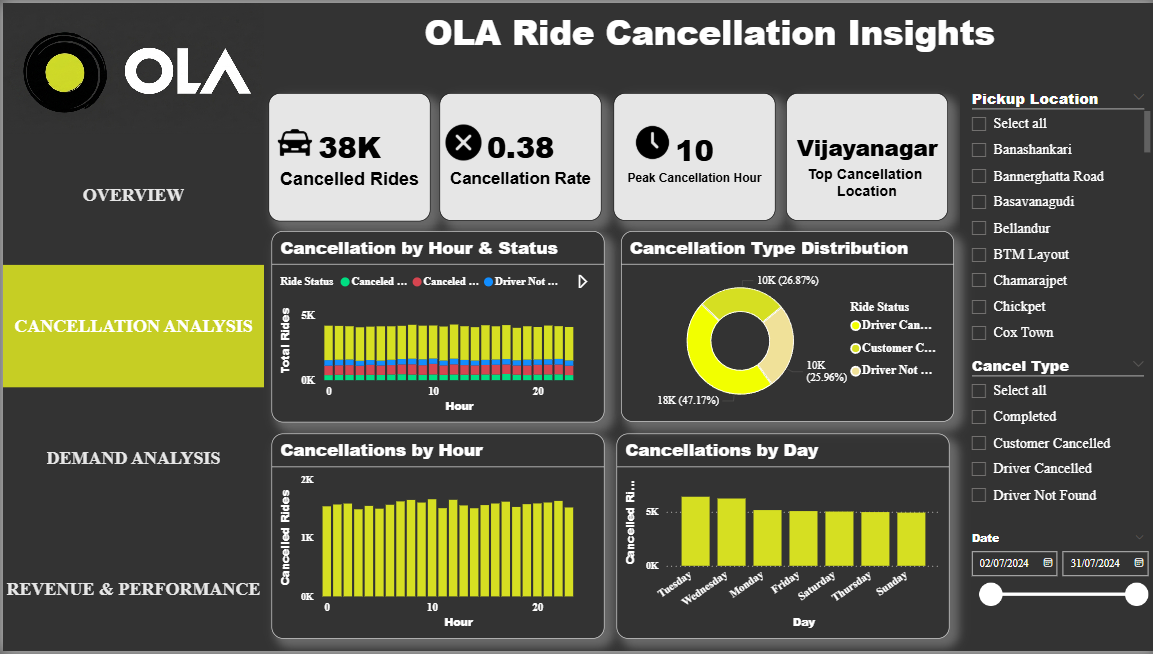

This screenshot's page, from the dashboard's own definition file:
{"tool":"powerbi","page":{"name":"CANCELLATION ANALYSIS","canvas":[1280,720],"ordinal":1},"visuals":[{"type":"shape","box":[0,0,289.4,719.1],"z":0},{"type":"image","box":[0,0,290,146],"z":1000},{"type":"pageNavigator","box":[0,145,290,575],"z":2000},{"type":"card","fields":{"Values":["all measures.Cancelled Rides"]},"box":[295,100,180,142.5],"z":3000},{"type":"card","fields":{"Values":["all measures.Cancellation Rate"]},"box":[485,100,180,142],"z":4000},{"type":"card","fields":{"Values":["all measures.Peak Cancellation Hour"]},"box":[678,100,180,142],"z":5000},{"type":"card","fields":{"Values":["all measures.Top Cancellation Location"]},"box":[870,100,180,142],"z":6000},{"type":"textbox","box":[290,0,990,90],"z":7000},{"type":"shape","box":[1062.5,90,217.5,630],"z":8000},{"type":"slicer","fields":{"Values":["Bookings.Date"]},"box":[1062.9,580,217.1,120],"z":9000},{"type":"slicer","fields":{"Values":["Bookings.Pickup Location"]},"box":[1062.5,90,217.5,297.5],"z":10000},{"type":"slicer","fields":{"Values":["Bookings.Cancel_Type"]},"box":[1062.9,387.1,217.1,180],"z":11000},{"type":"columnChart","title":"Cancellation by Hour & Status","fields":{"Category":["Bookings.Hour"],"Y":["all measures.Total Rides"],"Series":["Bookings.Status"]},"box":[298.2,253.6,370,212.7],"z":12000},{"type":"clusteredColumnChart","title":"Cancellations by Hour","fields":{"Category":["Bookings.Hour"],"Y":["all measures.Cancelled Rides"]},"box":[298,478,370,228],"z":13000},{"type":"clusteredColumnChart","title":"Cancellations by Day","fields":{"Y":["all measures.Cancelled Rides"],"Category":["Bookings.Day"]},"box":[682,478,370,228],"z":14000},{"type":"donutChart","title":"Cancellation Type Distribution","fields":{"Category":["Bookings.Cancel_Type"],"Y":["all measures.Cancelled Rides"]},"box":[686,254,370,212],"z":15000},{"type":"image","box":[297.8,135.6,52.2,40],"z":15002},{"type":"image","box":[485,135,53.3,40],"z":15004},{"type":"image","box":[694.4,135.6,53.3,40],"z":15005}]}

Visuals, with their boxes in screenshot pixels (x1, y1, x2, y2), scaled from the page's 1280x720 canvas onto the 1153x654 screenshot:
shape: Rect(0, 0, 261, 653)
image: Rect(0, 0, 261, 133)
pageNavigator: Rect(0, 132, 261, 653)
card - all measures.Cancelled Rides: Rect(266, 91, 428, 220)
card - all measures.Cancellation Rate: Rect(437, 91, 599, 220)
card - all measures.Peak Cancellation Hour: Rect(611, 91, 773, 220)
card - all measures.Top Cancellation Location: Rect(784, 91, 946, 220)
textbox: Rect(261, 0, 1152, 82)
shape: Rect(957, 82, 1152, 653)
slicer - Bookings.Date: Rect(957, 527, 1152, 636)
slicer - Bookings.Pickup Location: Rect(957, 82, 1152, 352)
slicer - Bookings.Cancel_Type: Rect(957, 352, 1152, 515)
"Cancellation by Hour & Status" columnChart: Rect(269, 230, 602, 424)
"Cancellations by Hour" clusteredColumnChart: Rect(268, 434, 602, 641)
"Cancellations by Day" clusteredColumnChart: Rect(614, 434, 948, 641)
"Cancellation Type Distribution" donutChart: Rect(618, 231, 951, 423)
image: Rect(268, 123, 315, 160)
image: Rect(437, 123, 485, 159)
image: Rect(626, 123, 674, 160)
